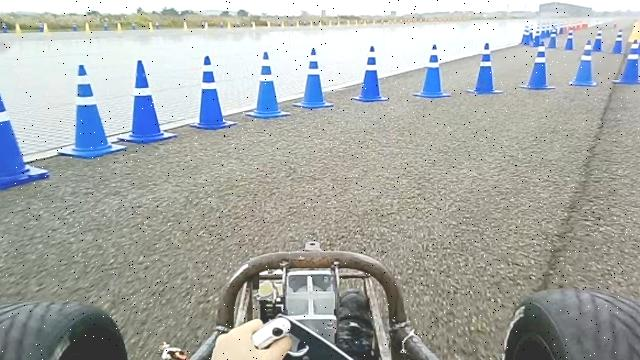blue cone: (56, 63, 126, 158), (0, 68, 49, 190), (116, 59, 177, 143), (188, 54, 237, 130), (244, 50, 291, 118), (292, 47, 334, 109), (412, 43, 451, 99), (351, 45, 389, 102), (466, 42, 503, 95), (518, 40, 556, 90), (568, 40, 597, 86), (611, 39, 640, 84)
